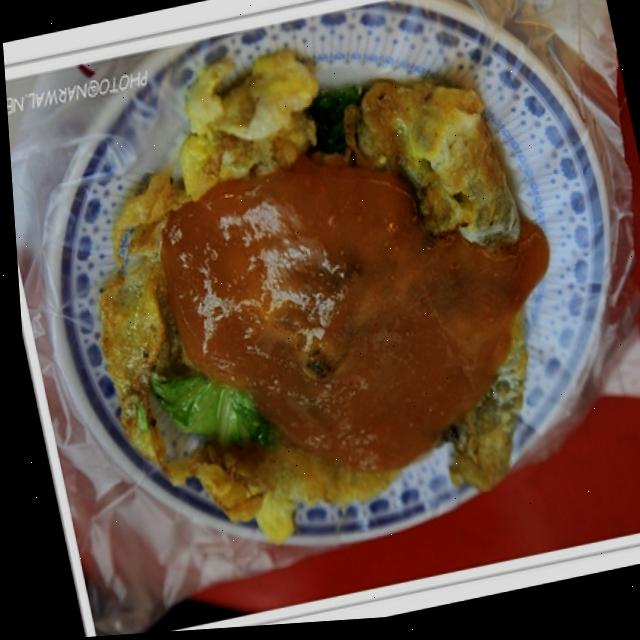熟制海鲜: (30, 0, 621, 596)
